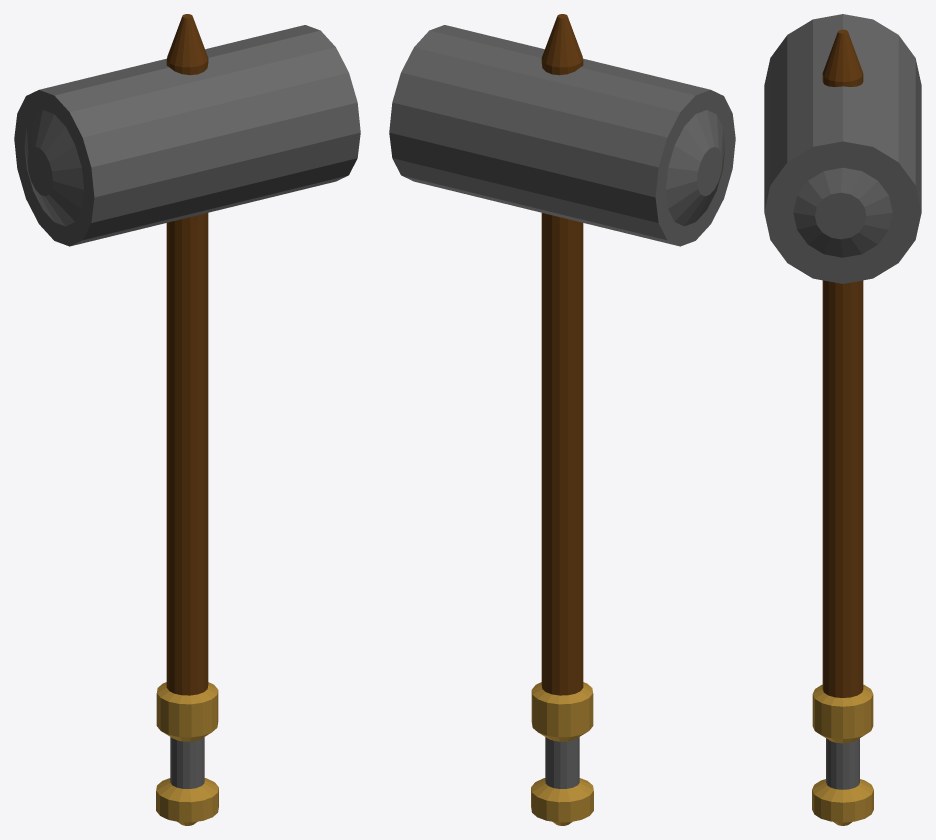
File: Martelo.fbx
3 renders of one model, left to right at view 1: azimuth 30°, elevation 25°; view 2: azimuth 150°, elevation 25°; view 3: azimuth 270°, elevation 25°, orthographic.
Parts seen in each view (by area): view 1: Cylinder.001, Cylinder; view 2: Cylinder.001, Cylinder; view 3: Cylinder.001, Cylinder.
Part boxes in pixels (<box>): Cylinder.001: <box>14,25,360,246</box>; Cylinder: <box>156,14,218,825</box>; Cylinder.001: <box>389,25,735,246</box>; Cylinder: <box>531,14,593,825</box>; Cylinder.001: <box>764,14,921,283</box>; Cylinder: <box>812,29,873,825</box>.
Size of the model in its own units: 1604 by 4265 by 768.
